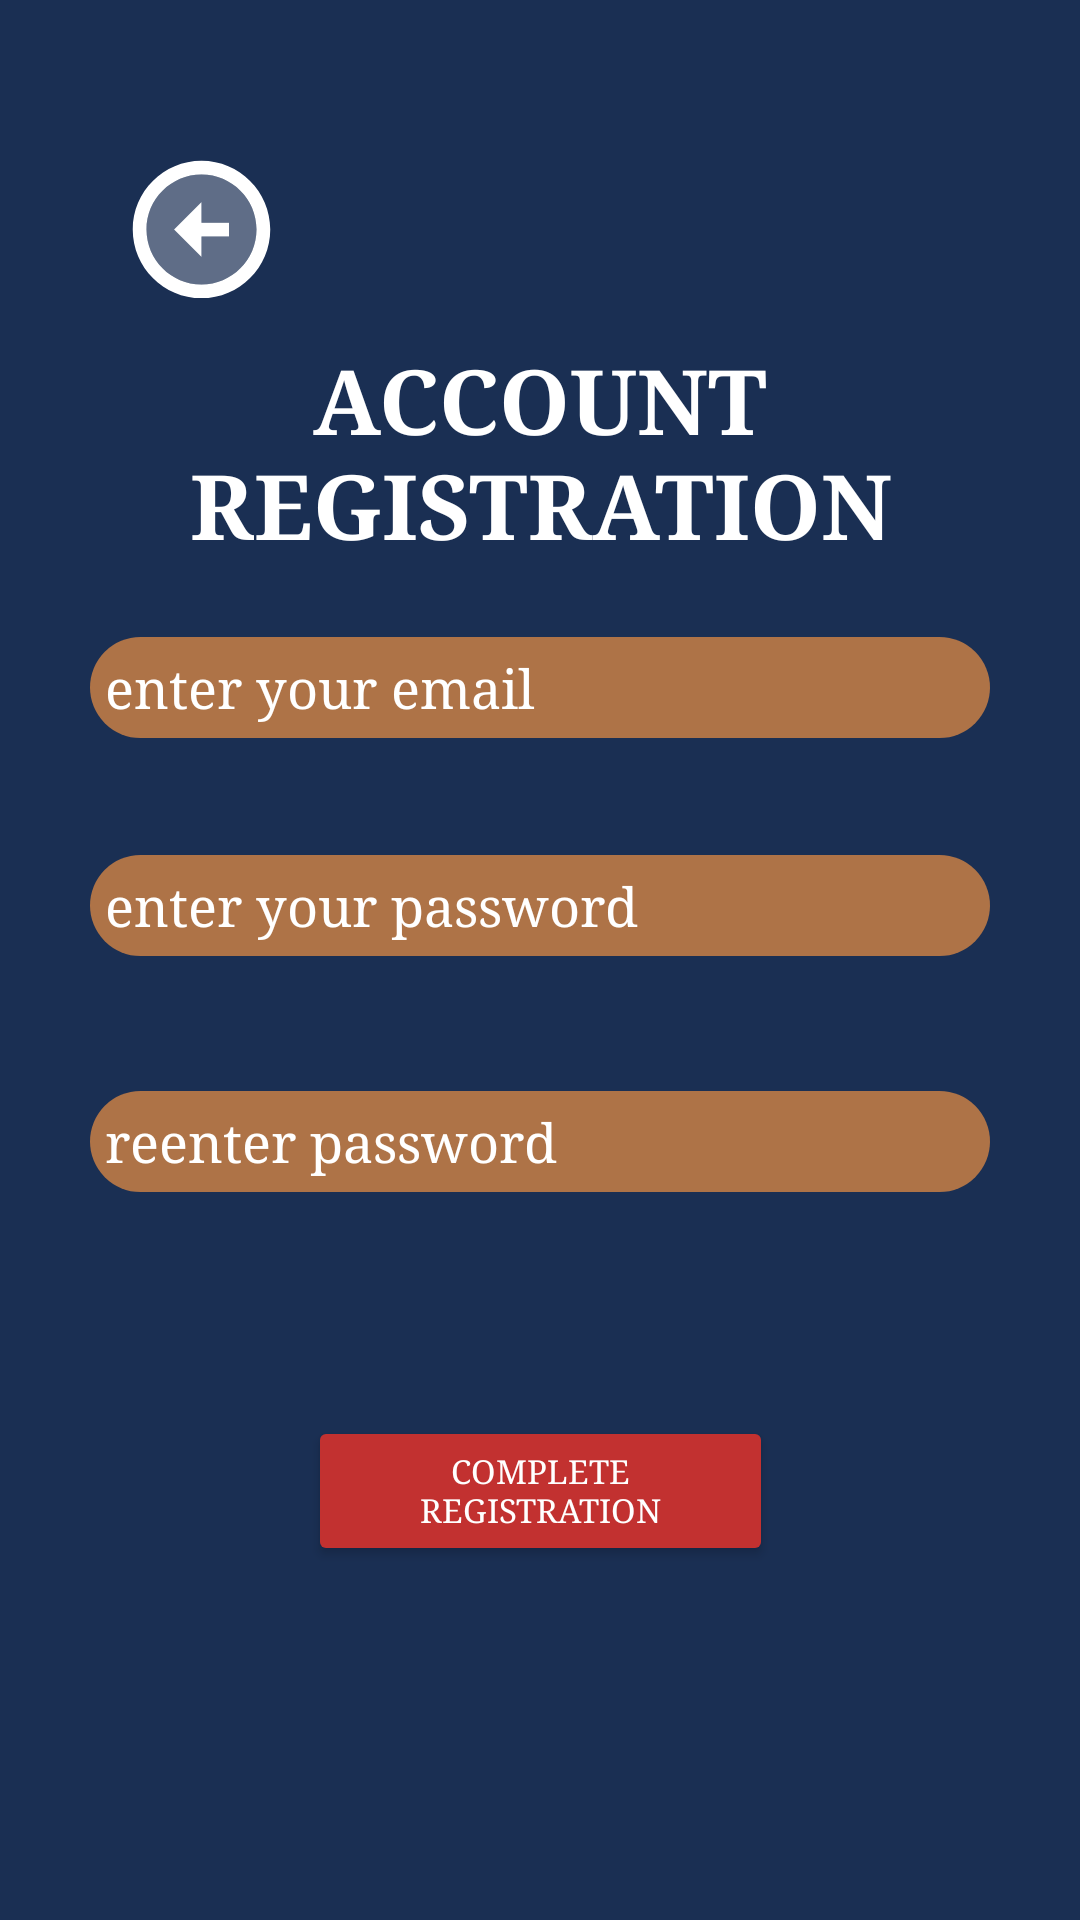

Icons on this 1080 x 1920 Android screen, each with its box as (x1, y1, x2, y2):
arrow circle left: (132, 160, 271, 298)
